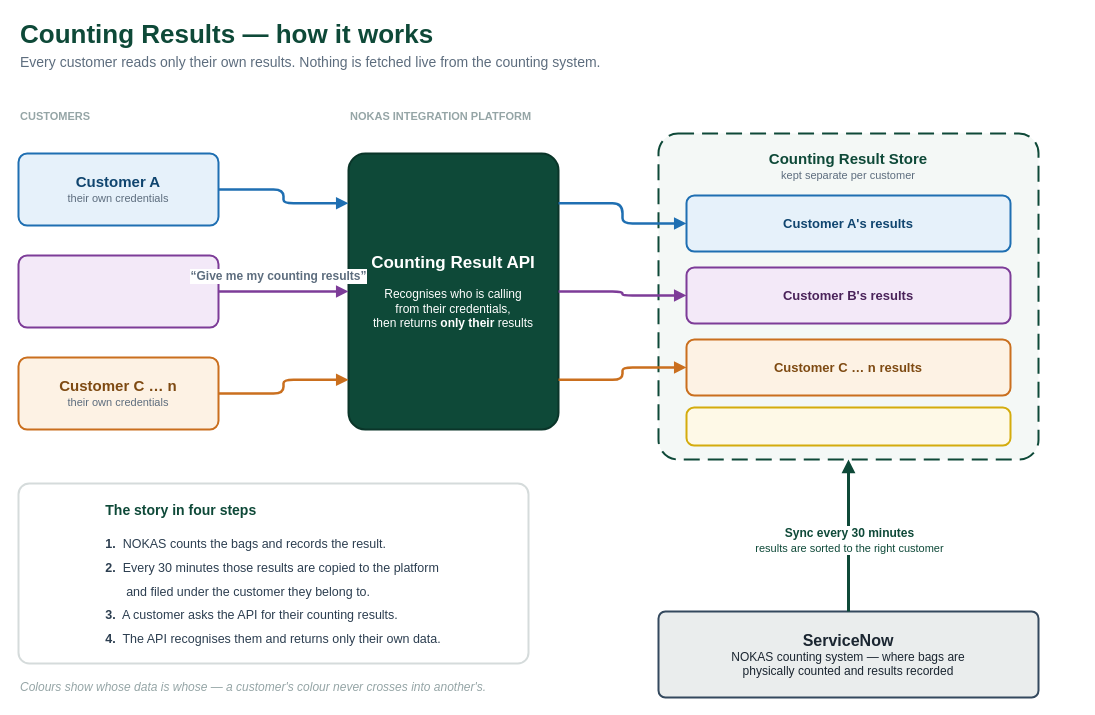
Image size: 1095x715. Some labels were removed from this diagram. Here are the shapes that lost their labels. From the top down, the centre of each, then its label:
[118,291]: Customer B their own credentials
[848,426]: 🔒 One customer can never see another's results
